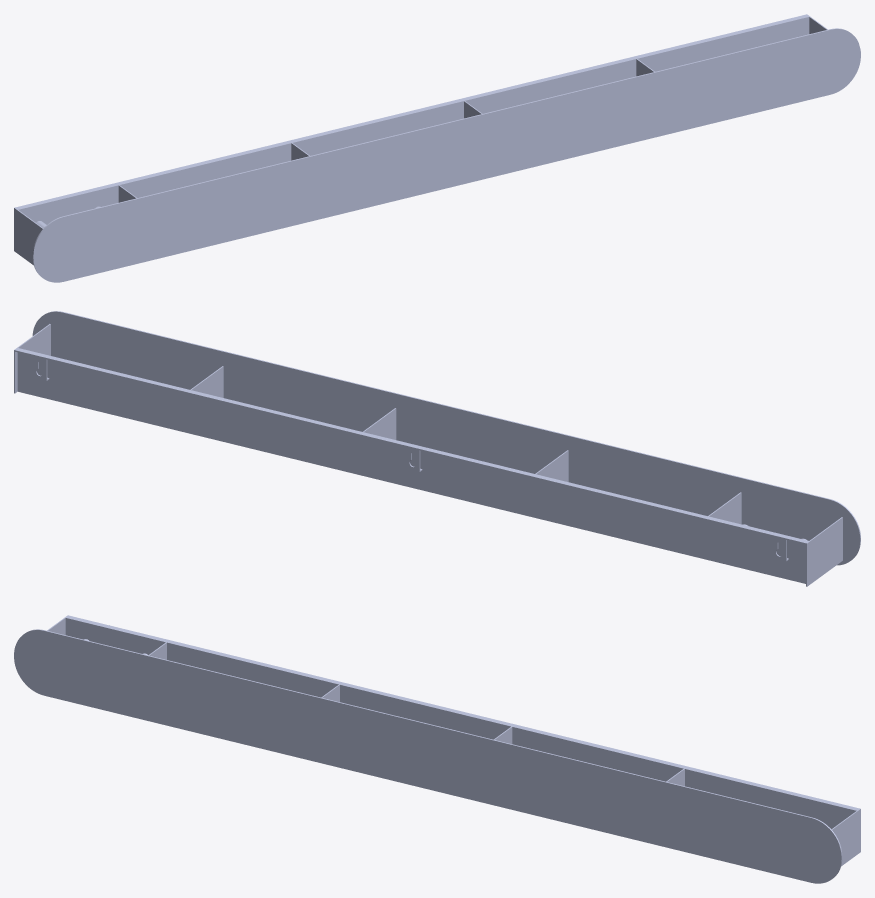
Rendered from round-patron.2eea7a2f5f.glb.
3 renders of one model, top to bottom at view 1: azimuth 30°, elevation 25°; view 2: azimuth 150°, elevation 25°; view 3: azimuth 330°, elevation 25°, orthographic.
Parts seen in each view (by area): view 1: NAUO1; view 2: NAUO1; view 3: NAUO1.
Boxes of the visible parts, x1,y1,x2,y2 form: NAUO1: (14, 14, 860, 282); NAUO1: (14, 311, 860, 586); NAUO1: (14, 615, 860, 883).
Bounding box in the file's own units: 1.2 × 0.0899 × 0.092.
